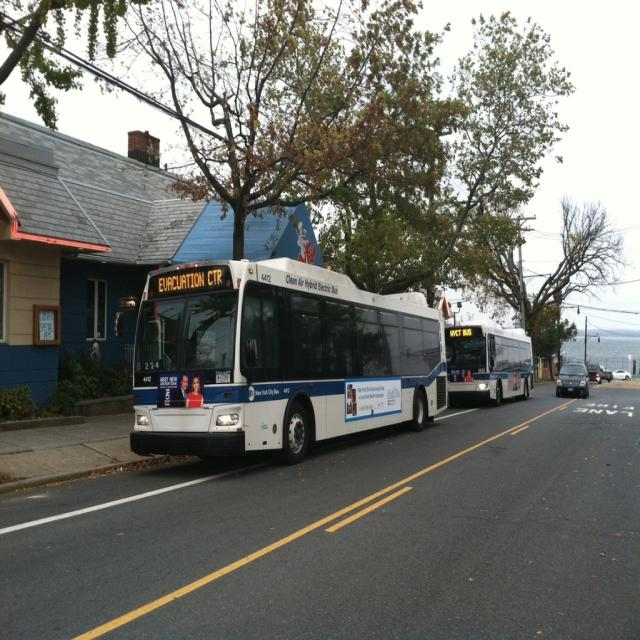car: (555, 358, 593, 392)
